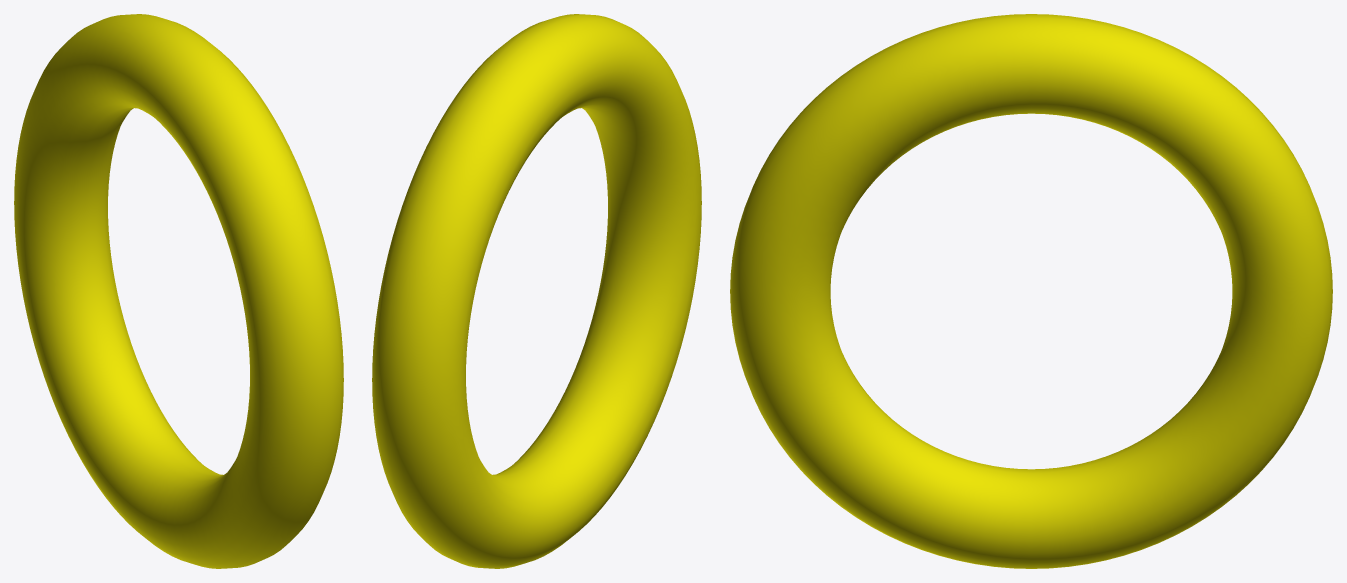
Rendered from リング.fbx.
3 views of the same model, side by side, from view 1: azimuth 30°, elevation 25°; view 2: azimuth 150°, elevation 25°; view 3: azimuth 270°, elevation 25° (orthographic). The views are drawn at different scales.
Visible parts, largest first — view 1: トーラス; view 2: トーラス; view 3: トーラス.
Boxes of the visible parts, left/top/right/bottom form: トーラス: left=14, top=14, right=343, bottom=568; トーラス: left=372, top=14, right=701, bottom=568; トーラス: left=730, top=14, right=1332, bottom=568.
Size of the model in its own units: 60 by 360 by 360.
